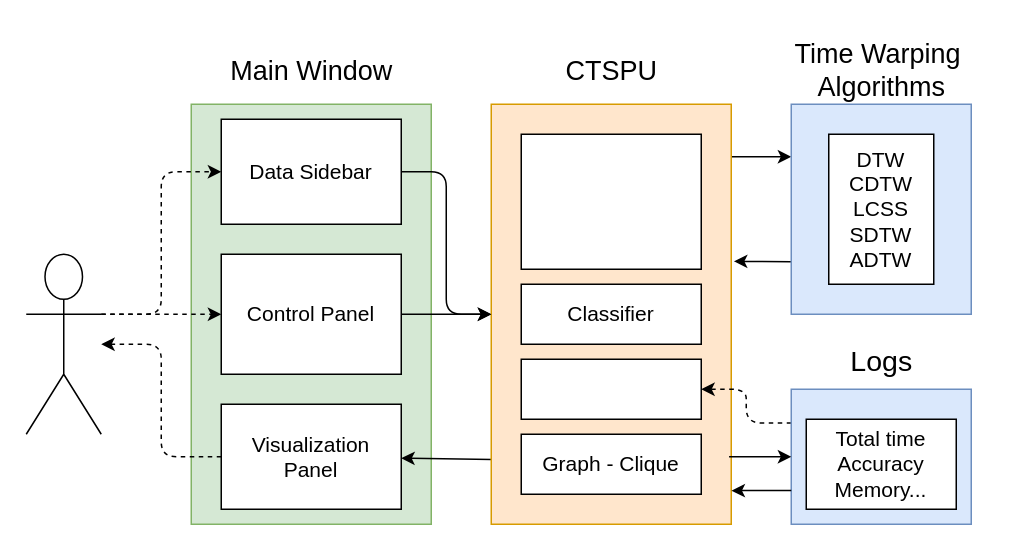
Image size: 1013x551. Some labels were removed from this diagram. The centre of each missing label's shape, as x and y in pixels:
Parameters: Time Series 1 Time Series 2 Dataset...: point (610, 201)
Spearman Matrix: point (610, 388)
User: point (63, 343)
